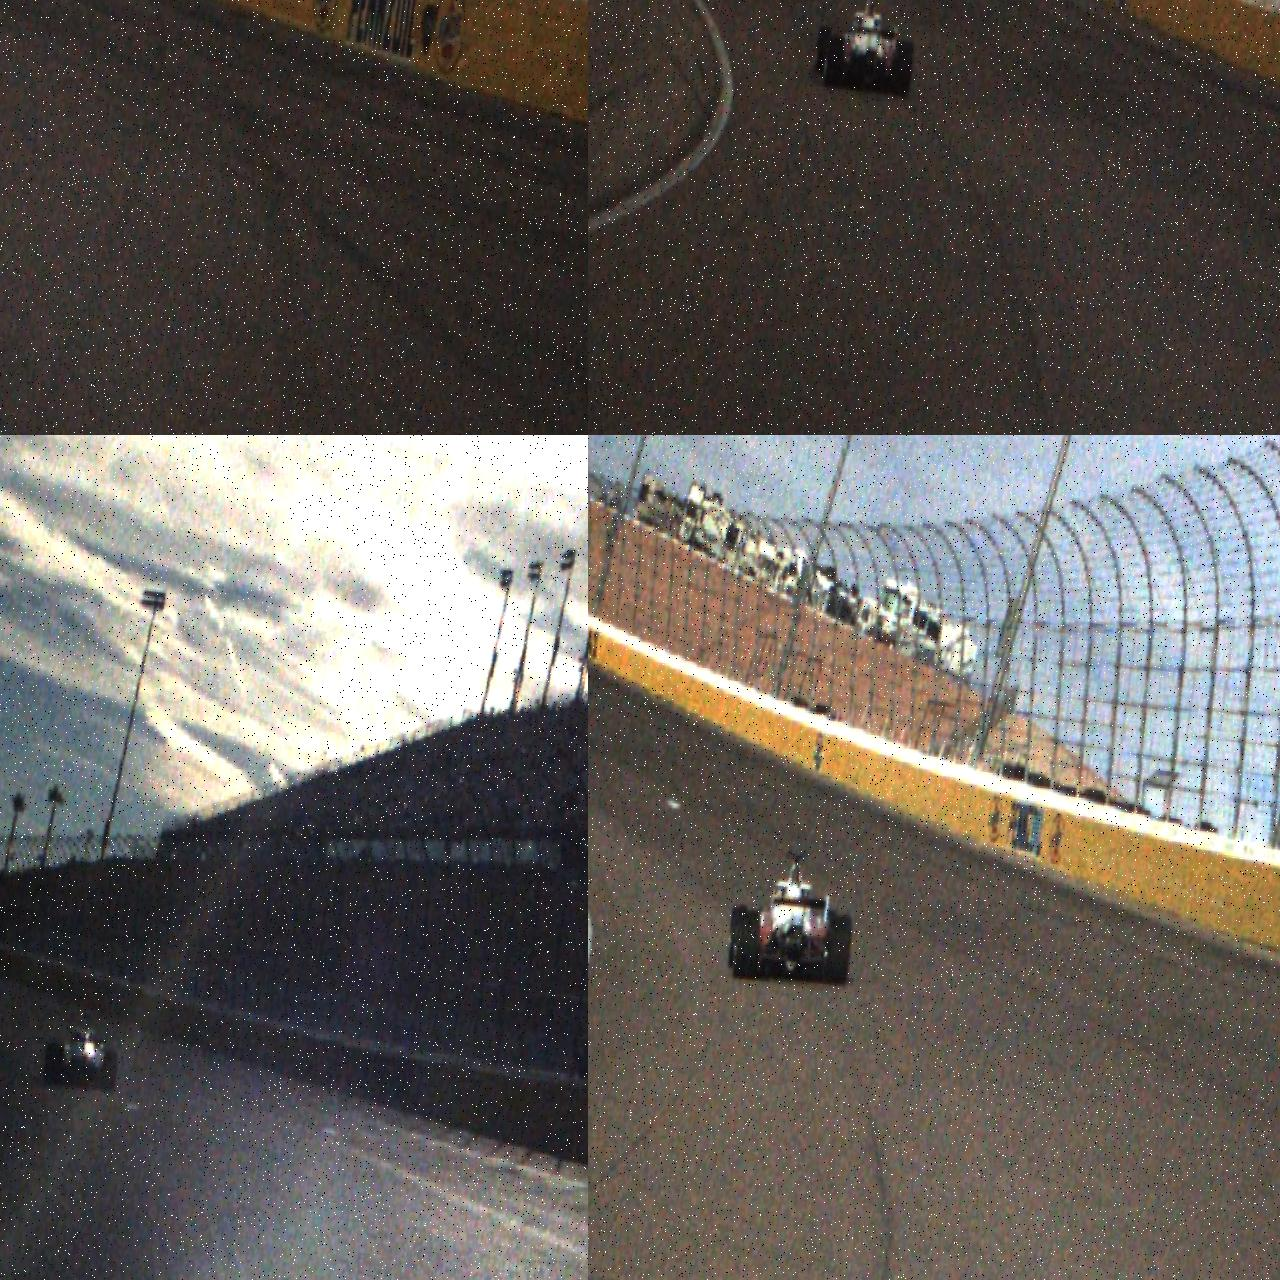AV: (724, 845, 862, 993), (811, 0, 921, 97), (41, 1005, 125, 1092)
Wheel: (823, 915, 855, 987), (730, 911, 762, 980), (726, 905, 749, 971), (890, 40, 915, 97), (822, 35, 845, 89), (813, 25, 833, 76), (42, 1042, 64, 1084), (101, 1050, 120, 1091)
